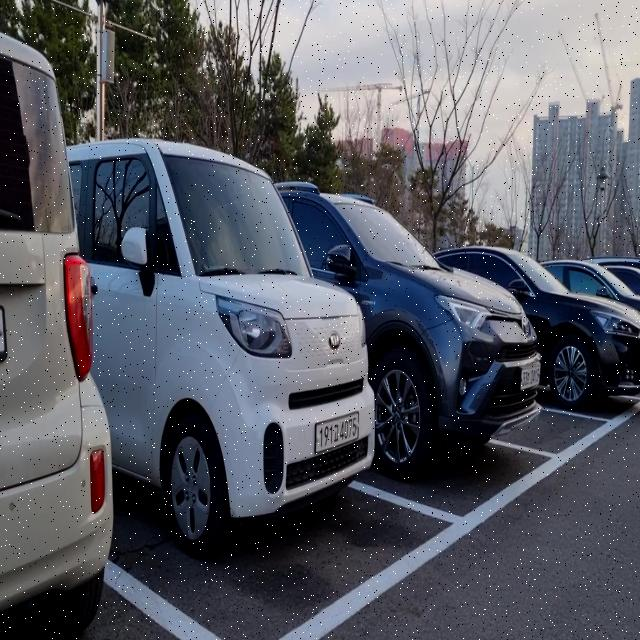occupied: (88, 134, 430, 628), (336, 212, 550, 494)
